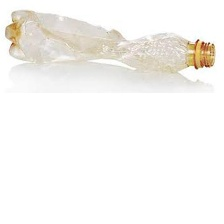bottle: (2, 8, 216, 82)
